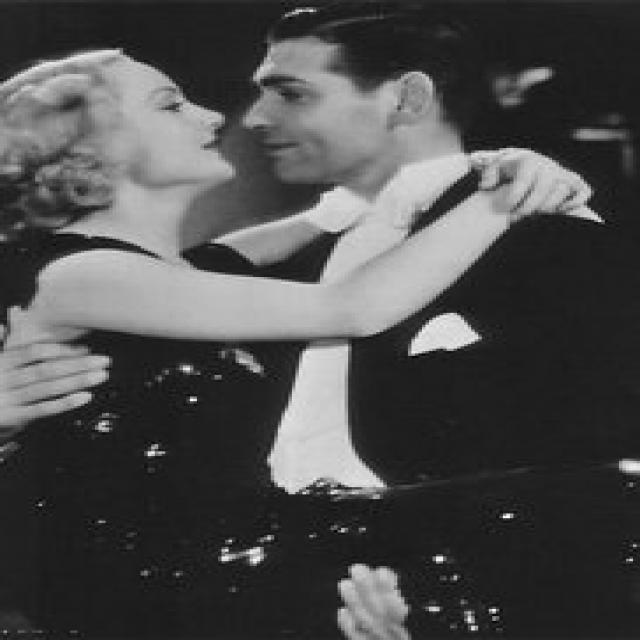picture: (8, 7, 630, 636)
